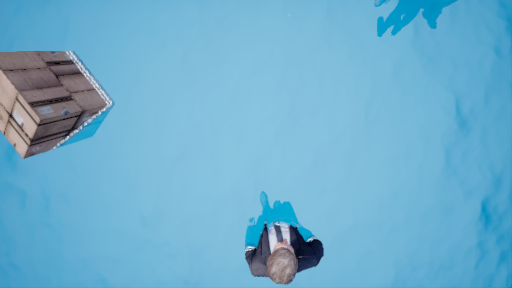person: (239, 192, 334, 280)
